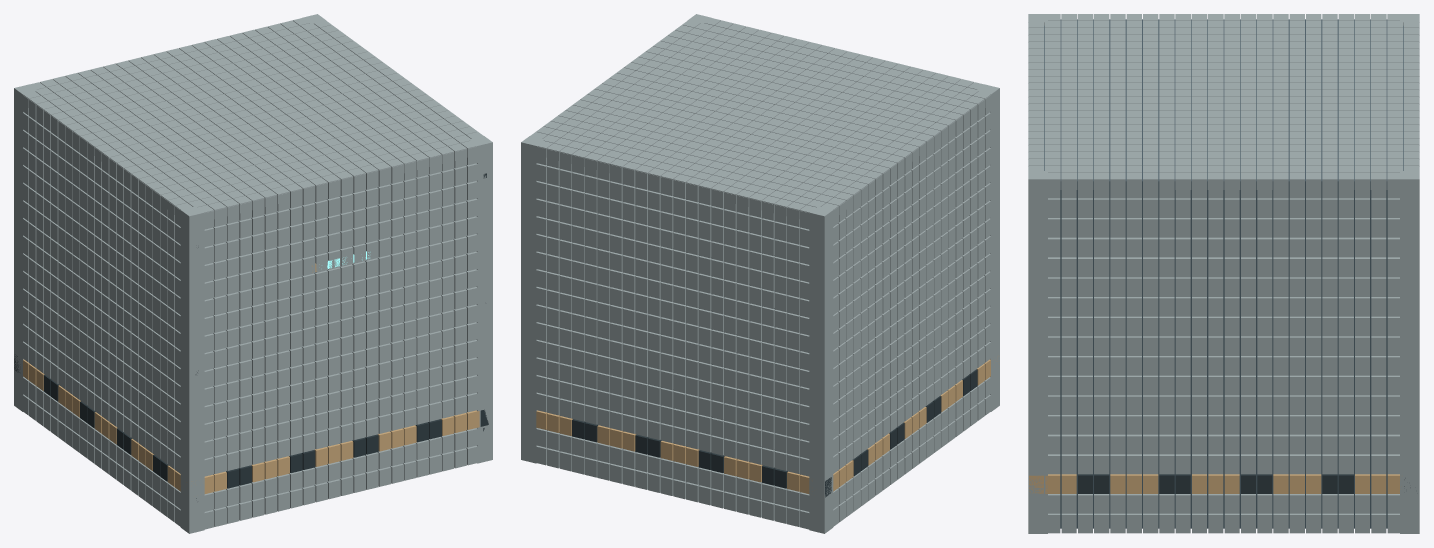
File: FoundryBarricade.fbx
The picture shows the model from 3 angles, left to right: view 1: azimuth 30°, elevation 25°; view 2: azimuth 150°, elevation 25°; view 3: azimuth 270°, elevation 25°; orthographic projection. The views are drawn at different scales.
Visible parts, largest first — view 1: FoundryBarricade; view 2: FoundryBarricade; view 3: FoundryBarricade.
Boxes of the visible parts, x1=… form: FoundryBarricade: x1=14, y1=14, x2=492, y2=533; FoundryBarricade: x1=521, y1=14, x2=999, y2=533; FoundryBarricade: x1=1028, y1=14, x2=1419, y2=533.
Size of the model in its own units: 1 by 1 by 1.
